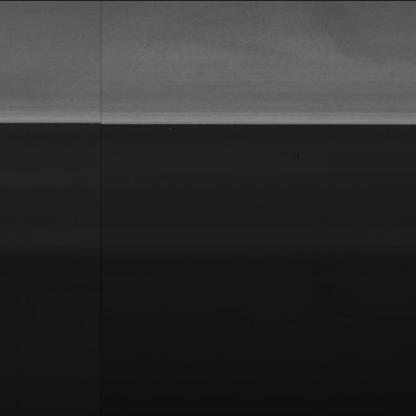welding_line: (89, 2, 115, 127)
